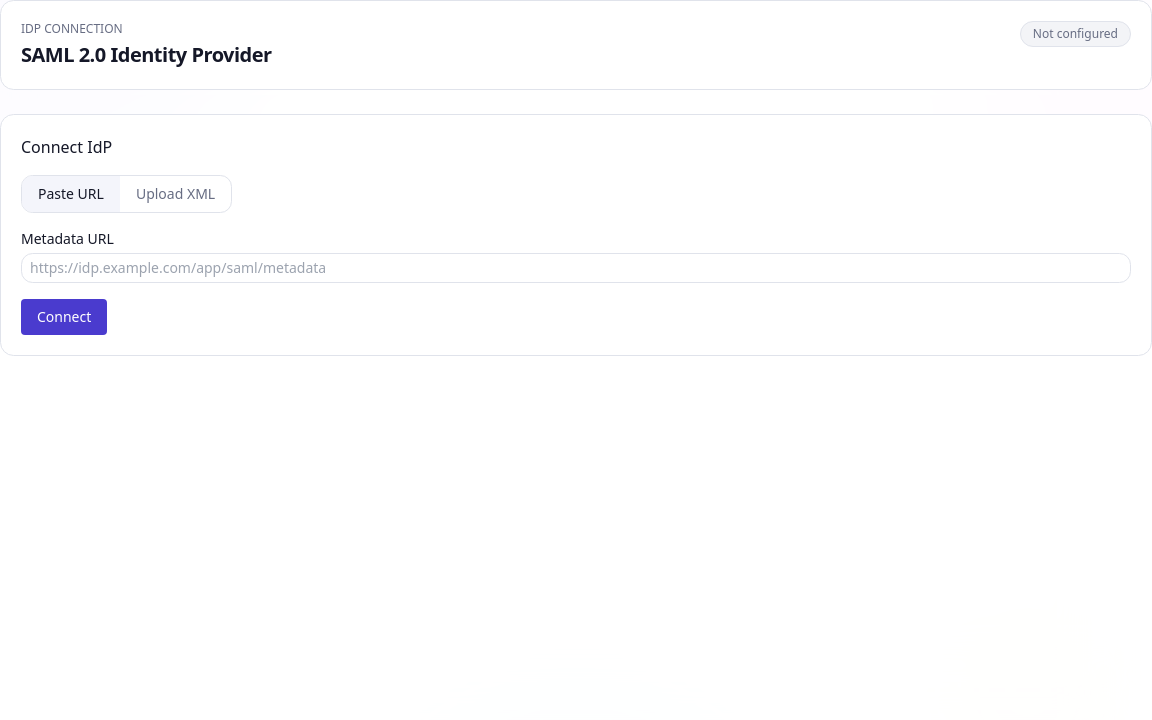
Test: IdpConnectPanel › shows validation error when XML mode but input is empty
Click the tab with test id "idp-tab-xml" at [176, 194], box [120,176,231,212]
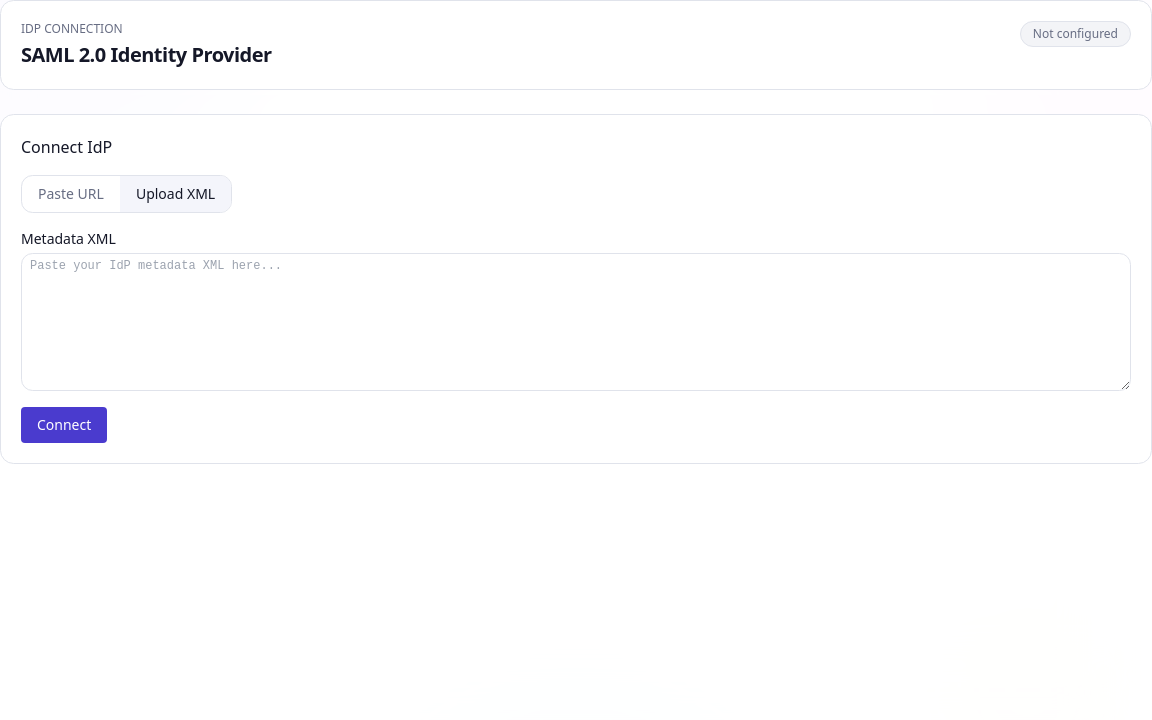
Submit the form with test id "idp-connect-form", box [21,229,1131,443]
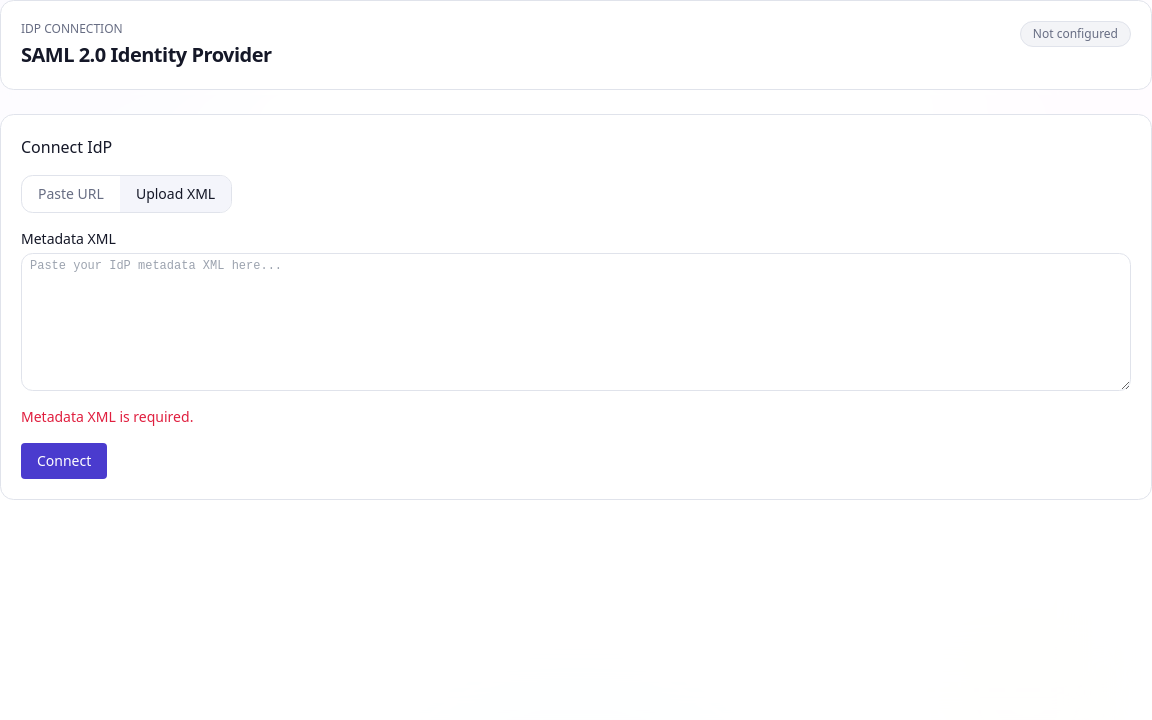
Check: the message with test id "idp-connect-error" shows "required", box [21,407,193,426]
